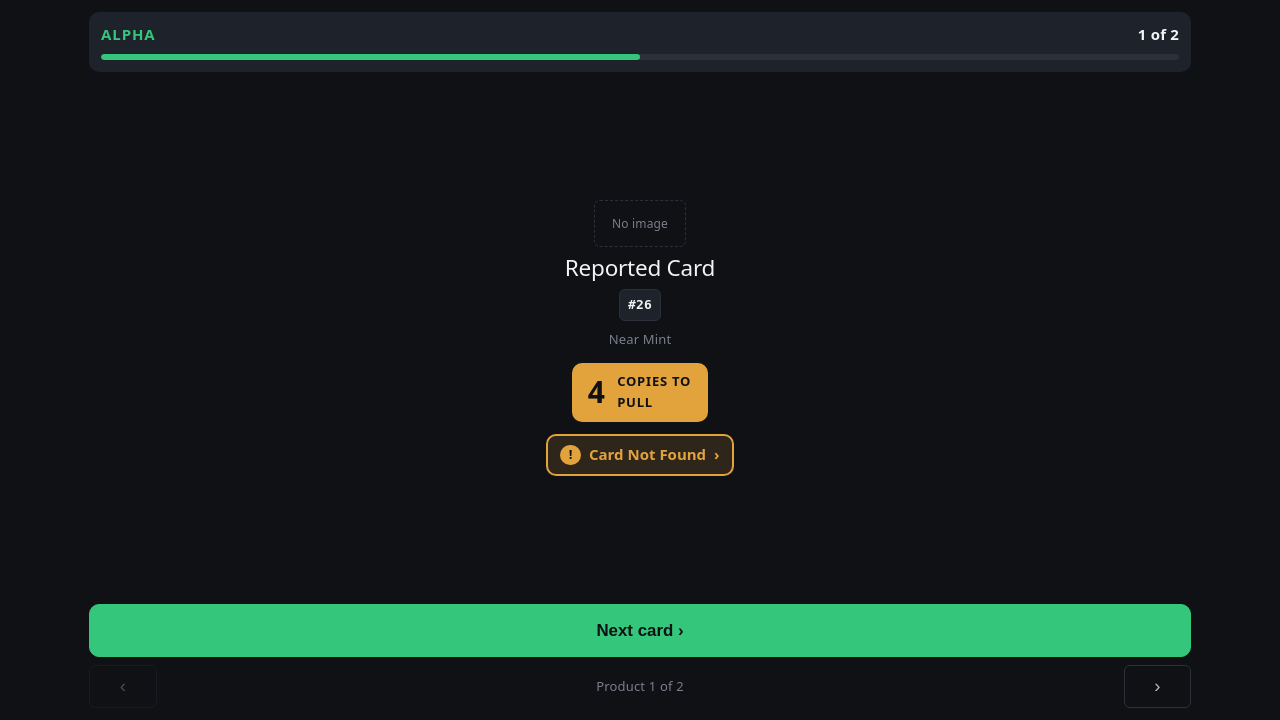
it: FocusedPickView — a reported product (018 US1) › is still reported after moving away and back
The image size is (1280, 720).
Click the button named "Next card": (1157, 686) [1124, 665, 1191, 708]
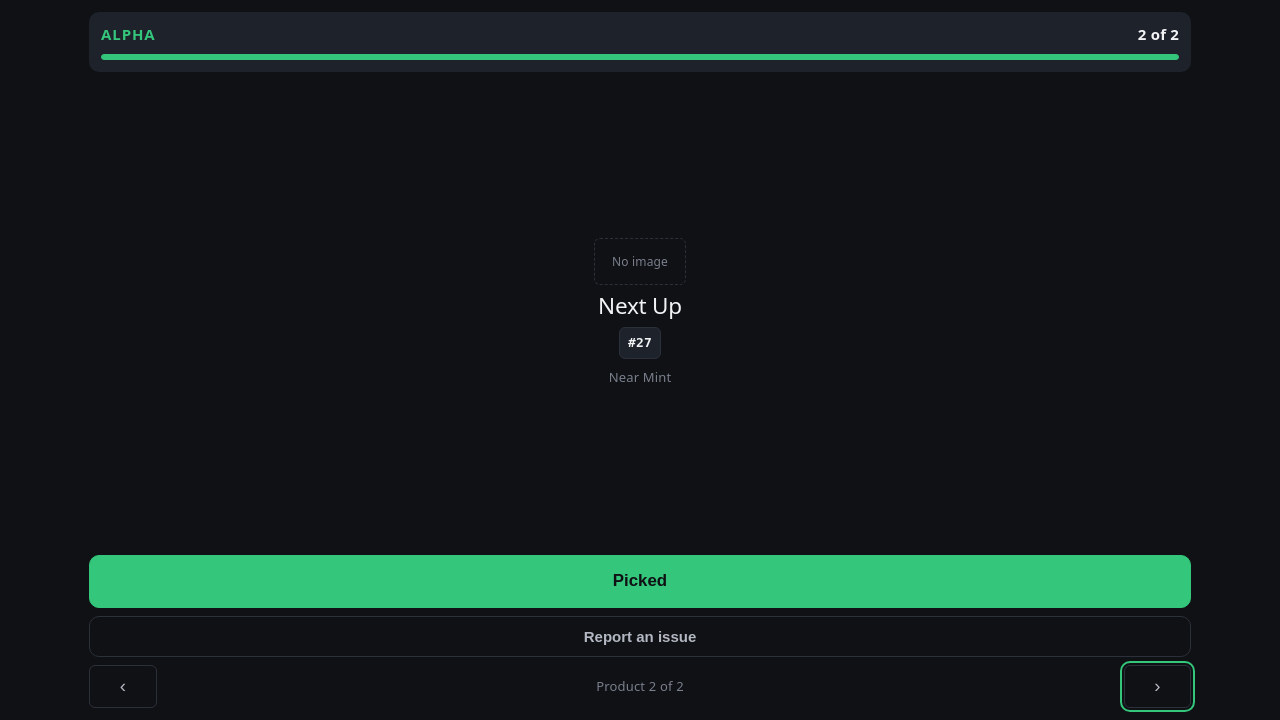
Click the button named "previous card": (123, 686) [89, 665, 156, 708]
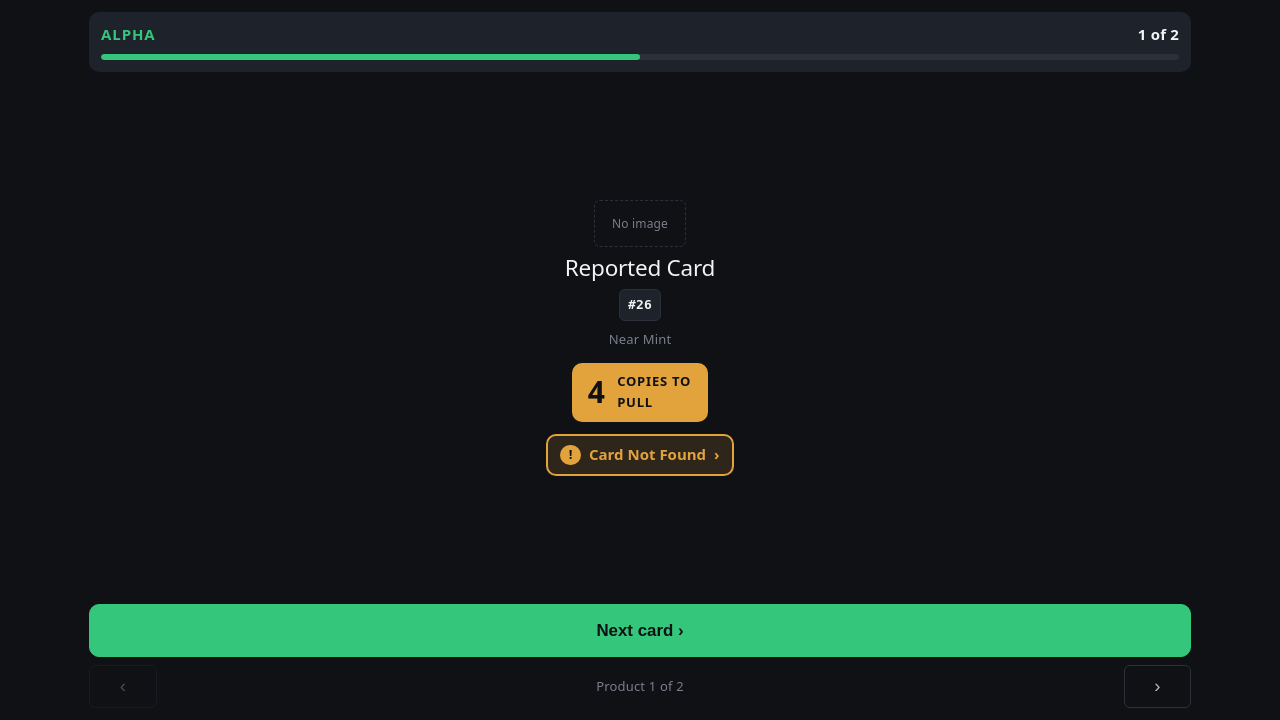
Check: the button "! Card Not Found ›" is shown, box [546, 434, 734, 476]
Check: the button "Next card ›" is shown, box [89, 604, 1191, 657]
